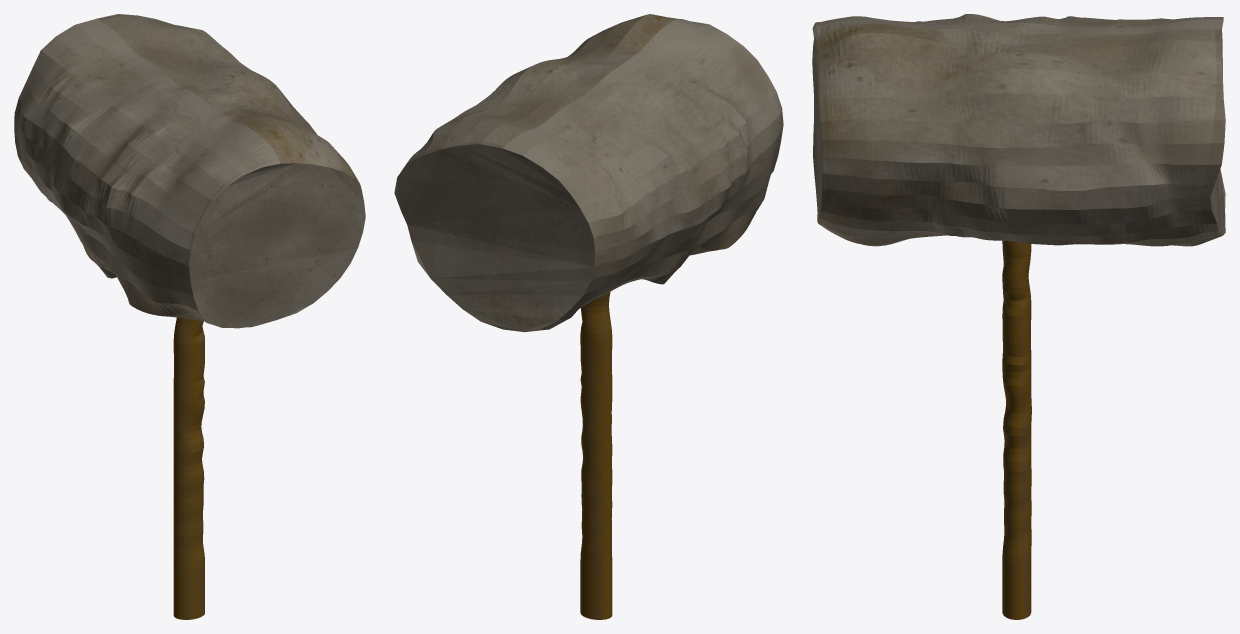
Rendered from hammer.obj.
3 renders of one model, left to right at view 1: azimuth 30°, elevation 25°; view 2: azimuth 150°, elevation 25°; view 3: azimuth 270°, elevation 25°, orthographic. The views are drawn at different scales.
Parts seen in each view (by area): view 1: 円柱.001; view 2: 円柱.001; view 3: 円柱.001.
Part boxes in pixels (box(x1,y1,x2,y2)): 円柱.001: box(14, 14, 365, 619); 円柱.001: box(394, 14, 783, 619); 円柱.001: box(812, 14, 1225, 619).
Bounding box in the file's own units: 3.35 × 7.22 × 4.58.
1 material, 1 textured.
